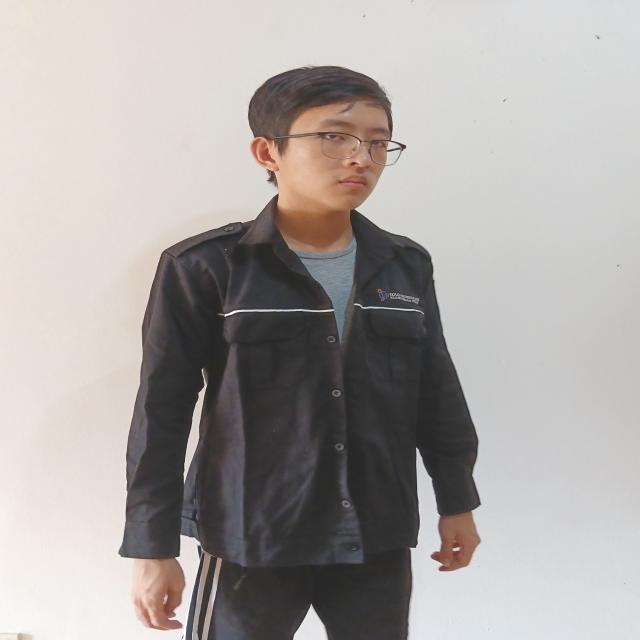person_with_labcoat: (120, 67, 479, 640)
